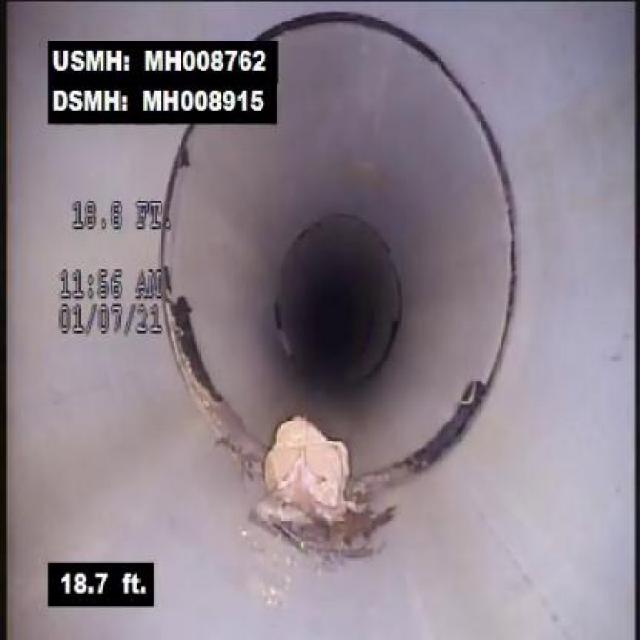Debris: (230, 389, 404, 546)
